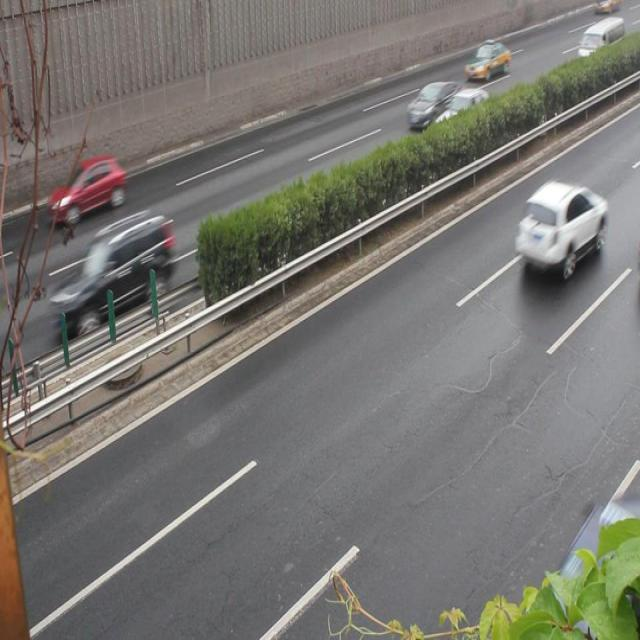car: (51, 211, 172, 335), (514, 181, 605, 279), (48, 154, 126, 225), (432, 89, 497, 144), (407, 80, 462, 130), (462, 39, 508, 84)
